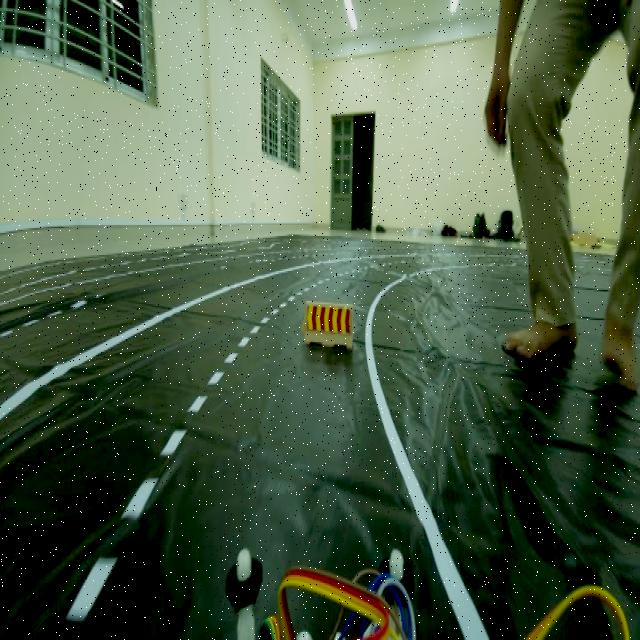roadblock: (299, 295, 361, 359)
